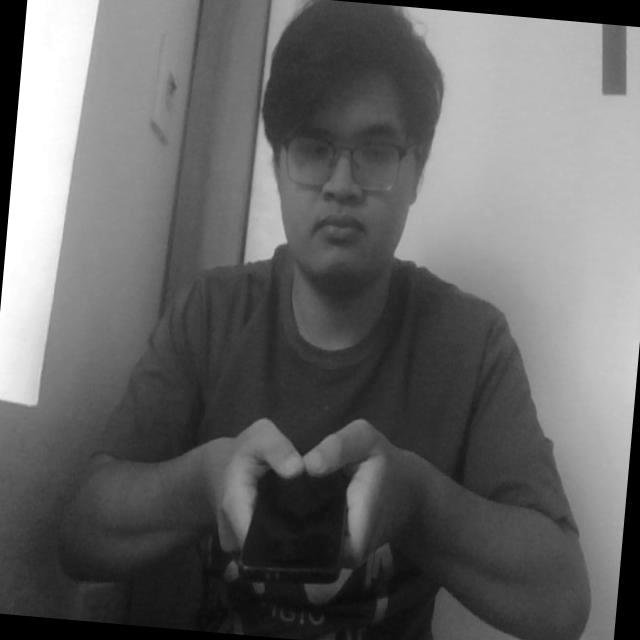phone: (220, 422, 370, 598)
